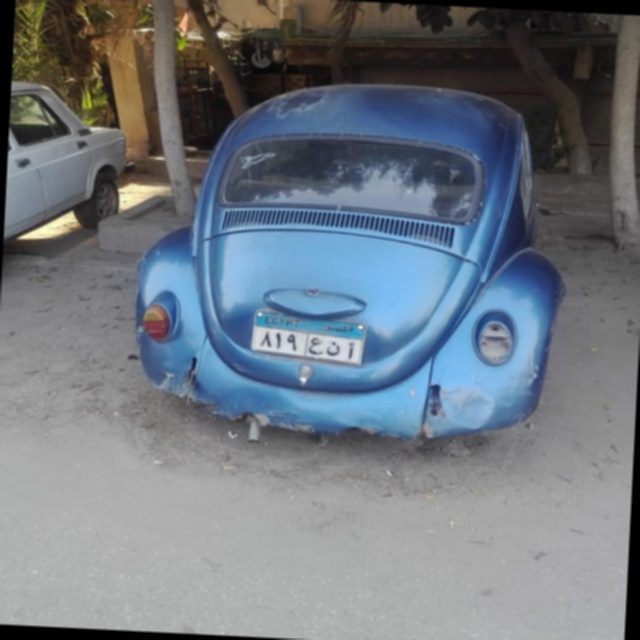License Plate: (249, 309, 368, 366)
